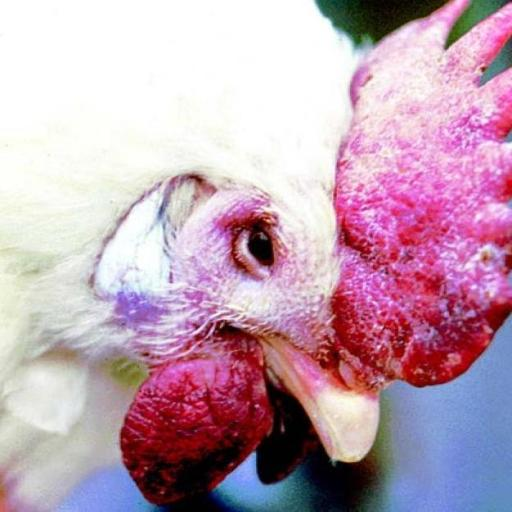disease: (354, 8, 506, 369)
